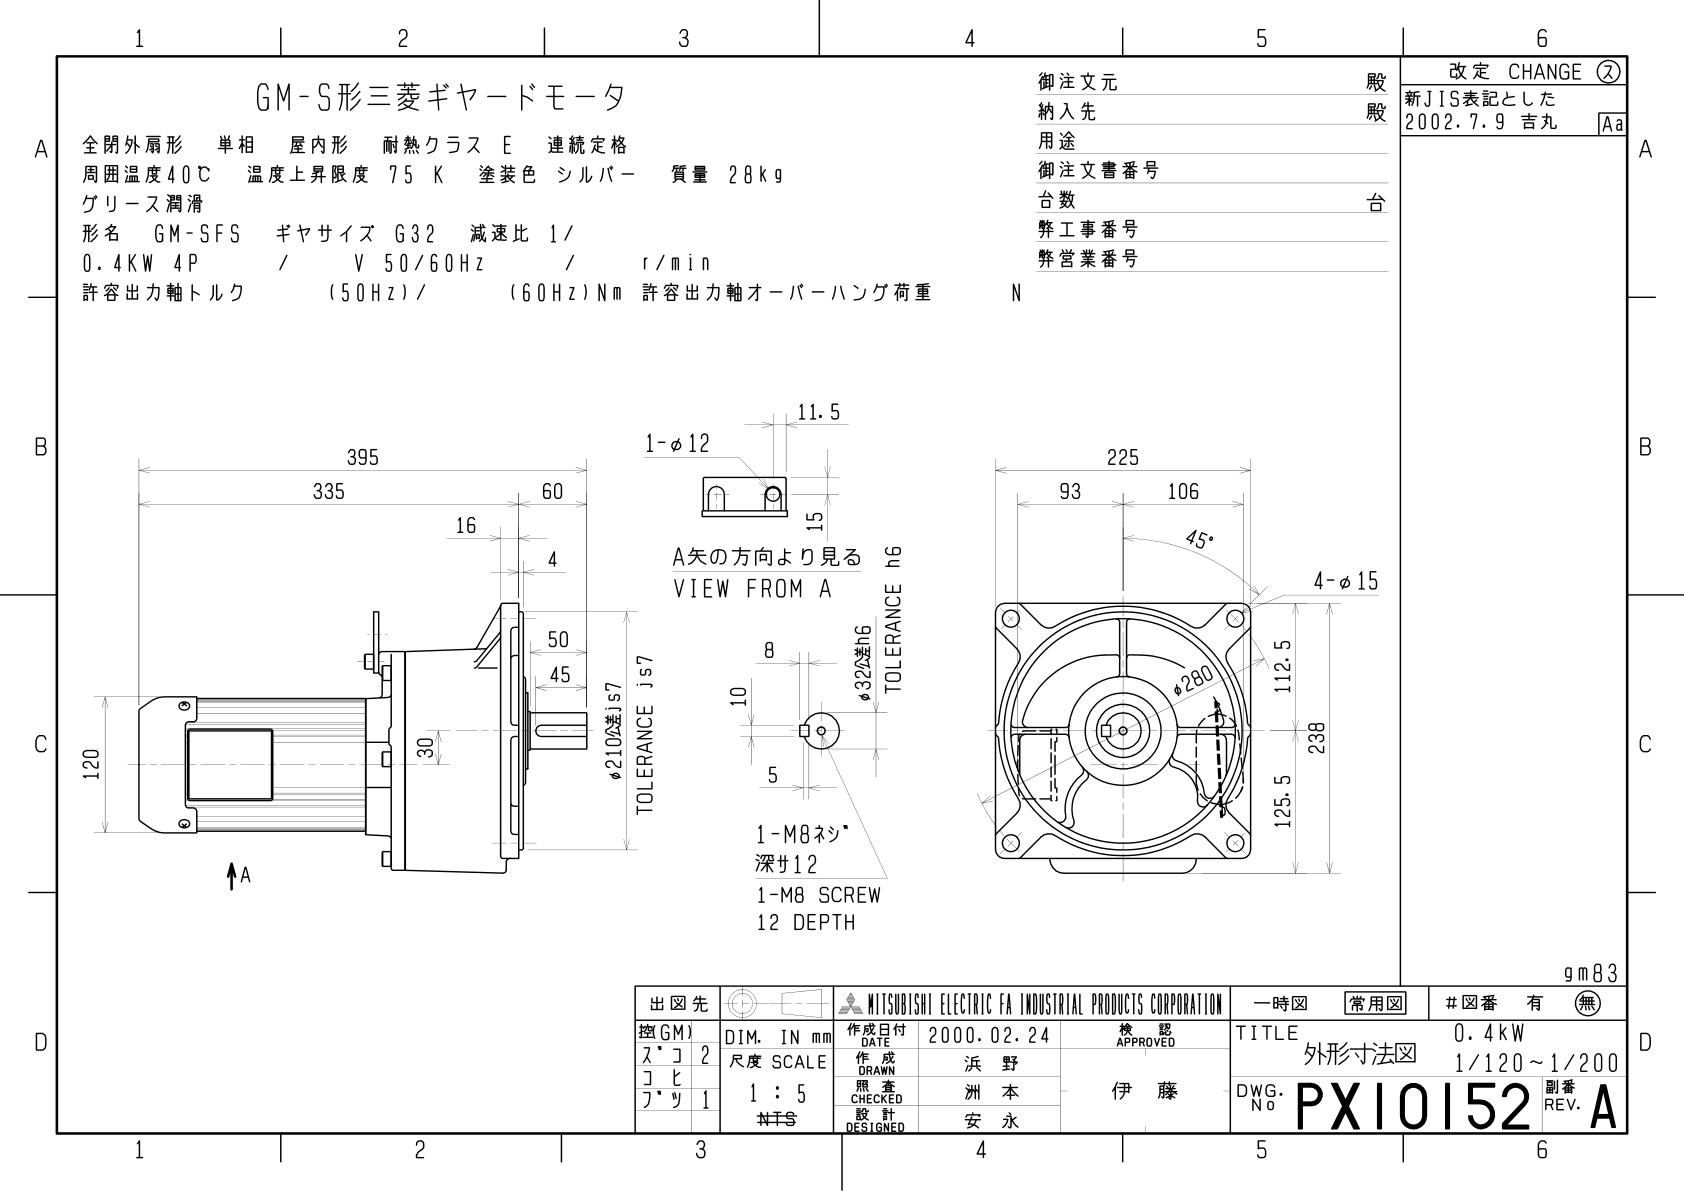GM_S_屋内＿単相_フランジ: (73, 371, 1383, 962)
